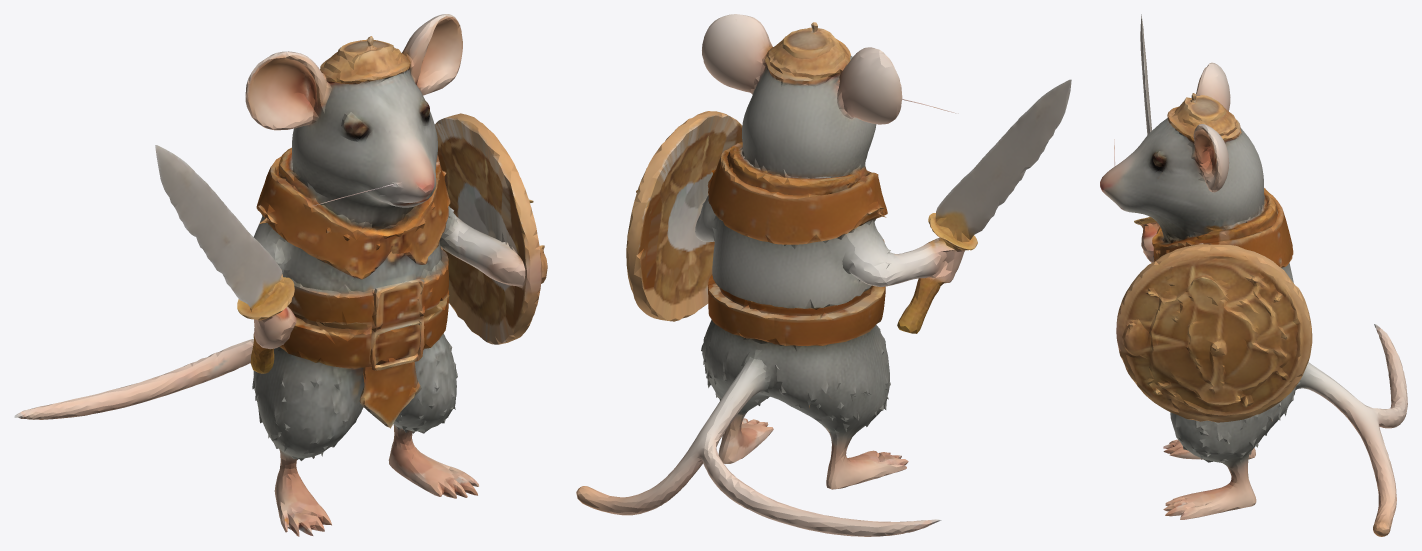
The picture shows the model from 3 angles, left to right: view 1: azimuth 30°, elevation 25°; view 2: azimuth 150°, elevation 25°; view 3: azimuth 270°, elevation 25°; orthographic projection. The views are drawn at different scales.
Parts seen in each view (by area): view 1: 005; view 2: 005; view 3: 005.
Boxes of the visible parts, x1,y1,x2,y2 form: 005: (14,14,547,536); 005: (576,14,1071,536); 005: (1100,14,1407,536).
Size of the model in its own units: 1.71 by 1.9 by 1.35.
1 material, 1 textured.
